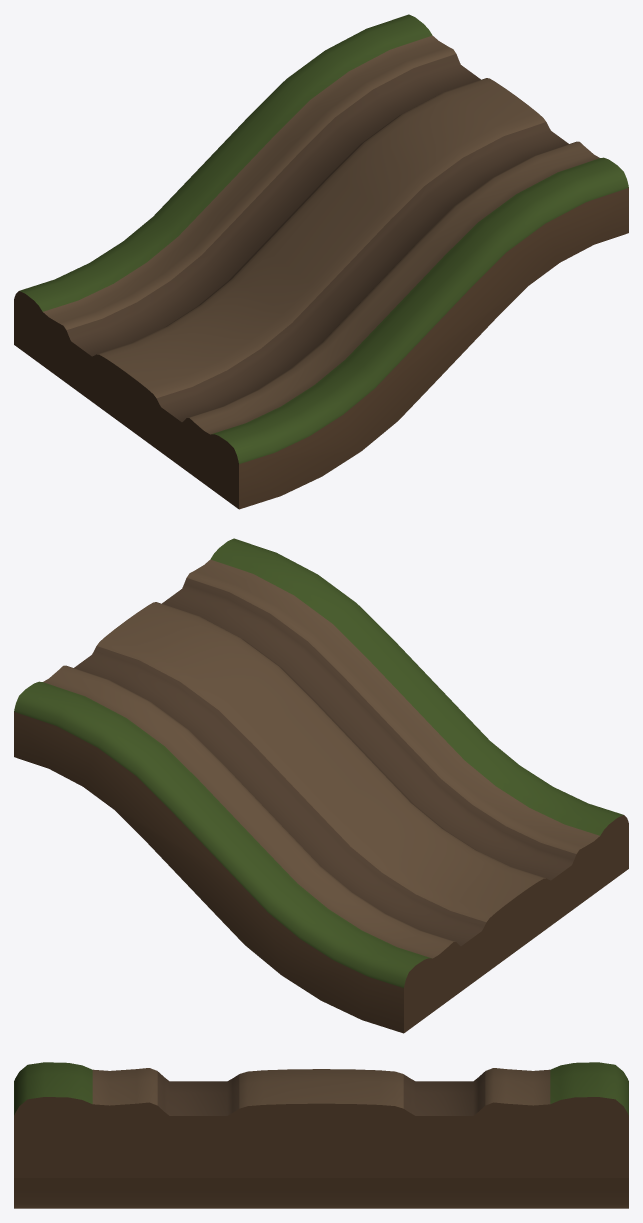
3 renders of one model, top to bottom at view 1: azimuth 30°, elevation 25°; view 2: azimuth 150°, elevation 25°; view 3: azimuth 270°, elevation 25°, orthographic. The views are drawn at different scales.
Parts seen in each view (by area): view 1: c2o; view 2: c2o; view 3: c2o.
Part boxes in pixels (box(x1,y1,x2,y2)): c2o: box(14, 14, 628, 509); c2o: box(14, 538, 628, 1033); c2o: box(14, 1062, 628, 1208).
Size of the model in its own units: 9 by 5.31 by 9.
